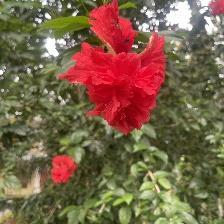hibiscus: (61, 2, 173, 138)
